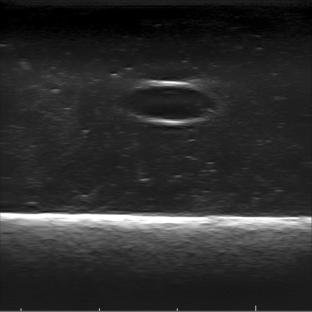vessel: (120, 80, 219, 126)
